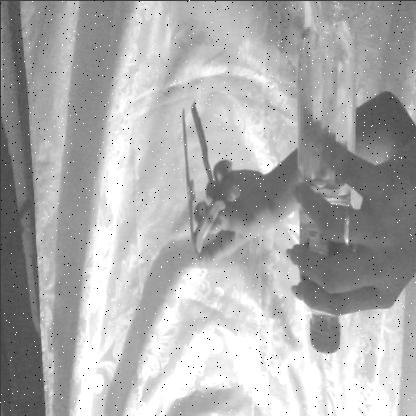Plastic Bottle: (280, 0, 367, 381)
